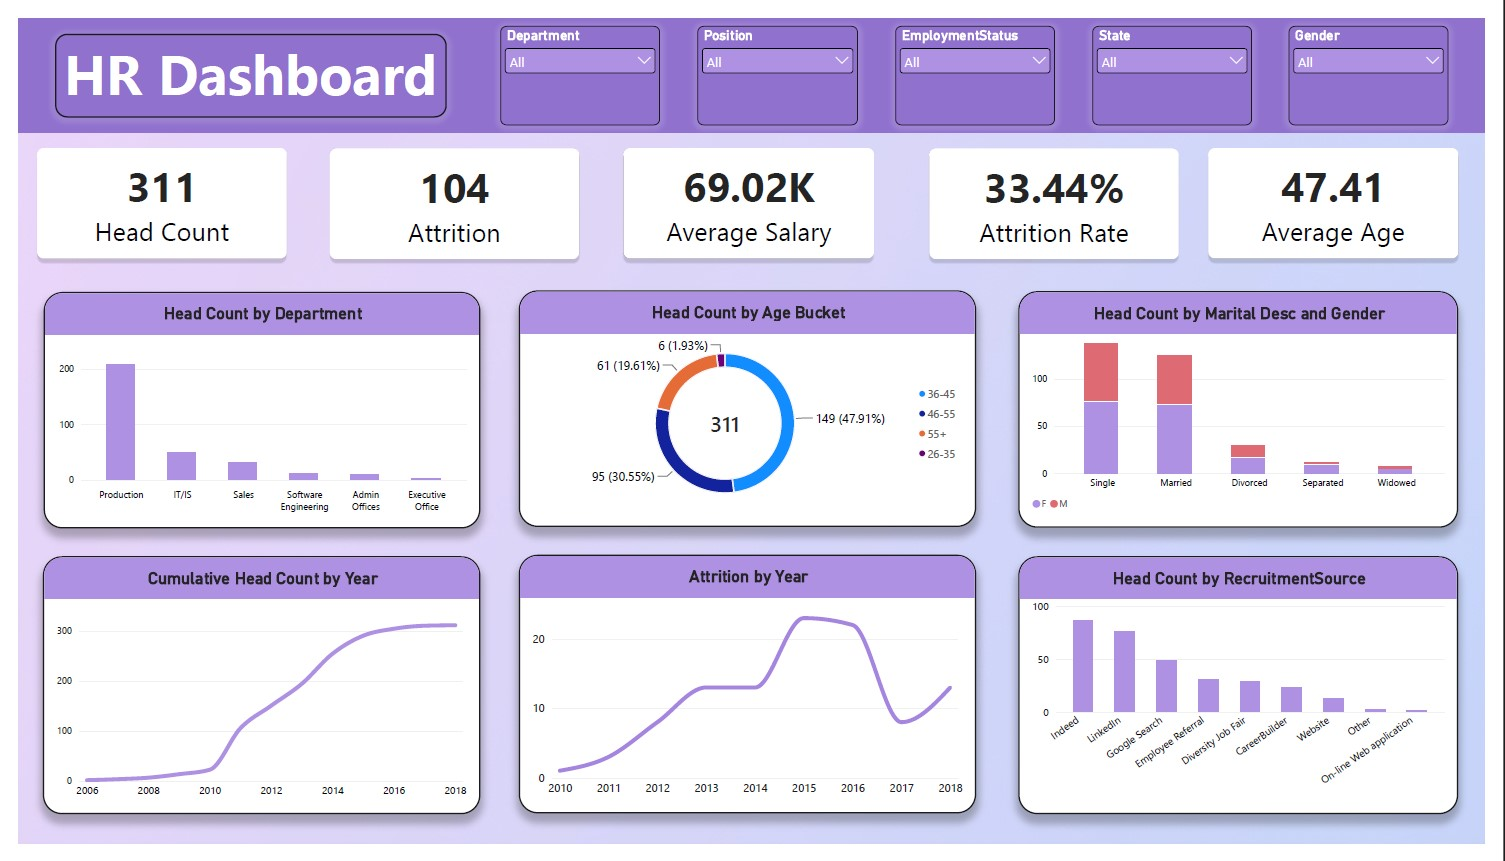

The page's visual inventory and layout, read from the dashboard file:
{"tool":"powerbi","page":{"name":"Page 1","canvas":[1920,1080],"ordinal":0},"visuals":[{"type":"shape","box":[0,0,1920,150],"z":0},{"type":"cardVisual","fields":{"Data":["Measures (2).Head Count"]},"box":[17.2,162.3,342.5,160],"z":1000},{"type":"cardVisual","fields":{"Data":["Measures (2).Attrition"]},"box":[400,162.7,342.7,160],"z":2000},{"type":"cardVisual","fields":{"Data":["Measures (2).Attrition Rate"]},"box":[1185,162.5,342.5,160],"z":3000},{"type":"cardVisual","fields":{"Data":["Measures (2).Average Salary"]},"box":[784.7,162.3,343.3,160],"z":4000},{"type":"cardVisual","fields":{"Data":["Measures (2).Average Age"]},"box":[1549.7,162.3,343.3,160],"z":5000},{"type":"clusteredColumnChart","title":"Head Count by Department","fields":{"Category":["HRDataset_v14.Department"],"Y":["Measures (2).Head Count"]},"box":[32.7,358.4,572,310],"z":6000},{"type":"donutChart","fields":{"Category":["HRDataset_v14.Age Bucket"],"Y":["Measures (2).Head Count"]},"box":[654.6,356,599.1,310],"z":7000},{"type":"columnChart","title":"Head Count by Marital Desc and Gender","fields":{"Category":["HRDataset_v14.MaritalDesc"],"Series":["HRDataset_v14.Gender"],"Y":["Measures (2).Head Count"]},"box":[1309.1,357.2,575.5,310],"z":8000},{"type":"lineChart","fields":{"Category":["HRDataset_v14.DateofHire.Variation.Date Hierarchy.Year","HRDataset_v14.DateofHire.Variation.Date Hierarchy.Quarter","HRDataset_v14.DateofHire.Variation.Date Hierarchy.Month","HRDataset_v14.DateofHire.Variation.Date Hierarchy.Day"],"Y":["Measures (2).Cumulative Head Count"]},"box":[32.4,704.4,572.5,337.5],"z":9000},{"type":"lineChart","fields":{"Category":["HRDataset_v14.DateofTermination.Variation.Date Hierarchy.Year","HRDataset_v14.DateofTermination.Variation.Date Hierarchy.Quarter","HRDataset_v14.DateofTermination.Variation.Date Hierarchy.Month","HRDataset_v14.DateofTermination.Variation.Date Hierarchy.Day"],"Y":["Measures (2).Attrition"]},"box":[654.6,702.3,599.1,338.2],"z":10000},{"type":"columnChart","fields":{"Category":["HRDataset_v14.RecruitmentSource"],"Y":["Measures (2).Head Count"]},"box":[1309.1,704.5,576.4,337.3],"z":11000},{"type":"slicer","fields":{"Values":["HRDataset_v14.Position"]},"box":[889.2,10,210,130],"z":12000},{"type":"slicer","fields":{"Values":["HRDataset_v14.Department"]},"box":[630.8,10,209.4,130],"z":13000},{"type":"slicer","fields":{"Values":["HRDataset_v14.EmploymentStatus"]},"box":[1147.5,10,209.3,130.3],"z":14000},{"type":"slicer","fields":{"Values":["HRDataset_v14.State"]},"box":[1405.8,10,208.8,130],"z":15000},{"type":"slicer","fields":{"Values":["HRDataset_v14.Gender"]},"box":[1663.3,10,208.8,130],"z":16000},{"type":"textbox","box":[48.2,20,512.7,110],"z":17000}]}

Visuals, with their boxes in screenshot pixels (x1, y1, x2, y2), scaled from the page's 1920x1080 canvas onto the 1505x861 screenshot:
shape: [0,0,1504,120]
cardVisual - Measures (2).Head Count: [13,129,282,257]
cardVisual - Measures (2).Attrition: [314,130,582,257]
cardVisual - Measures (2).Attrition Rate: [929,130,1197,257]
cardVisual - Measures (2).Average Salary: [615,129,884,257]
cardVisual - Measures (2).Average Age: [1215,129,1484,257]
"Head Count by Department" clusteredColumnChart: [26,286,474,533]
donutChart - HRDataset_v14.Age Bucket x Measures (2).Head Count: [513,284,983,531]
"Head Count by Marital Desc and Gender" columnChart: [1026,285,1477,532]
lineChart - HRDataset_v14.DateofHire.Variation.Date Hierarchy.Year x HRDataset_v14.DateofHire.Variation.Date Hierarchy.Quarter: [25,562,474,831]
lineChart - HRDataset_v14.DateofTermination.Variation.Date Hierarchy.Year x HRDataset_v14.DateofTermination.Variation.Date Hierarchy.Quarter: [513,560,983,830]
columnChart - HRDataset_v14.RecruitmentSource x Measures (2).Head Count: [1026,562,1478,831]
slicer - HRDataset_v14.Position: [697,8,862,112]
slicer - HRDataset_v14.Department: [494,8,659,112]
slicer - HRDataset_v14.EmploymentStatus: [899,8,1064,112]
slicer - HRDataset_v14.State: [1102,8,1266,112]
slicer - HRDataset_v14.Gender: [1304,8,1467,112]
textbox: [38,16,440,104]
